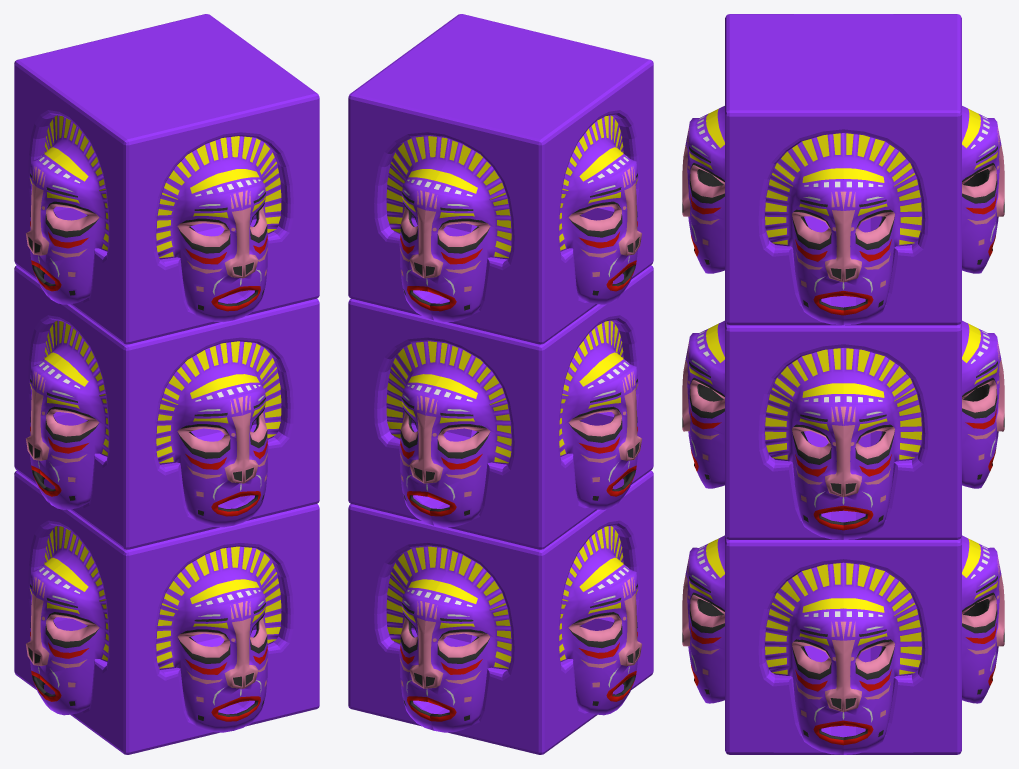
Rendered from PillarsPurple.fbx.
3 views of the same model, side by side, from view 1: azimuth 30°, elevation 25°; view 2: azimuth 150°, elevation 25°; view 3: azimuth 270°, elevation 25° (orthographic). The views are drawn at different scales.
Visible parts, largest first — view 1: PurpleCube_3, PurpleCube_2, PurpleCube_1; view 2: PurpleCube_3, PurpleCube_2, PurpleCube_1; view 3: PurpleCube_3, PurpleCube_1, PurpleCube_2.
Boxes of the visible parts, x1,y1,x2,y2 form: PurpleCube_3: (14, 14, 319, 344); PurpleCube_2: (14, 265, 319, 549); PurpleCube_1: (14, 470, 319, 754); PurpleCube_3: (348, 14, 653, 344); PurpleCube_2: (348, 265, 653, 549); PurpleCube_1: (348, 470, 653, 754); PurpleCube_3: (682, 14, 1004, 325); PurpleCube_1: (682, 535, 1004, 754); PurpleCube_2: (682, 320, 1004, 539).
Bounding box in the file's own units: 6.8 × 6.8 × 15.
